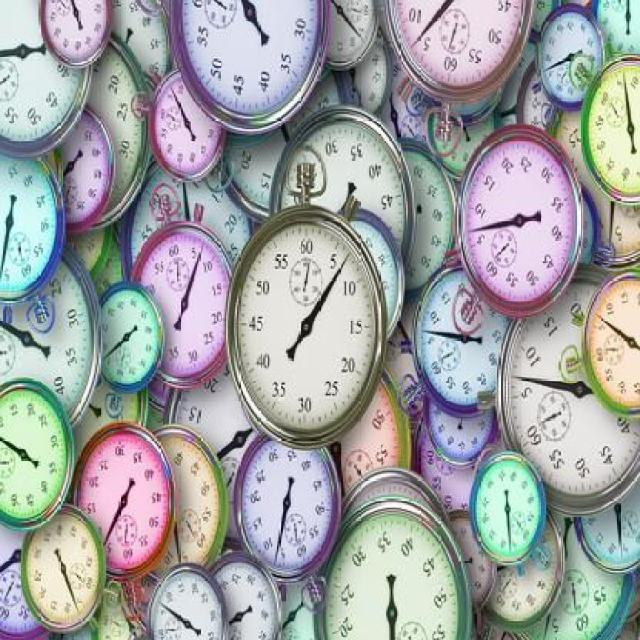clock: (233, 226, 385, 429), (470, 137, 581, 296), (75, 431, 171, 569), (243, 441, 330, 569), (475, 451, 540, 561)
